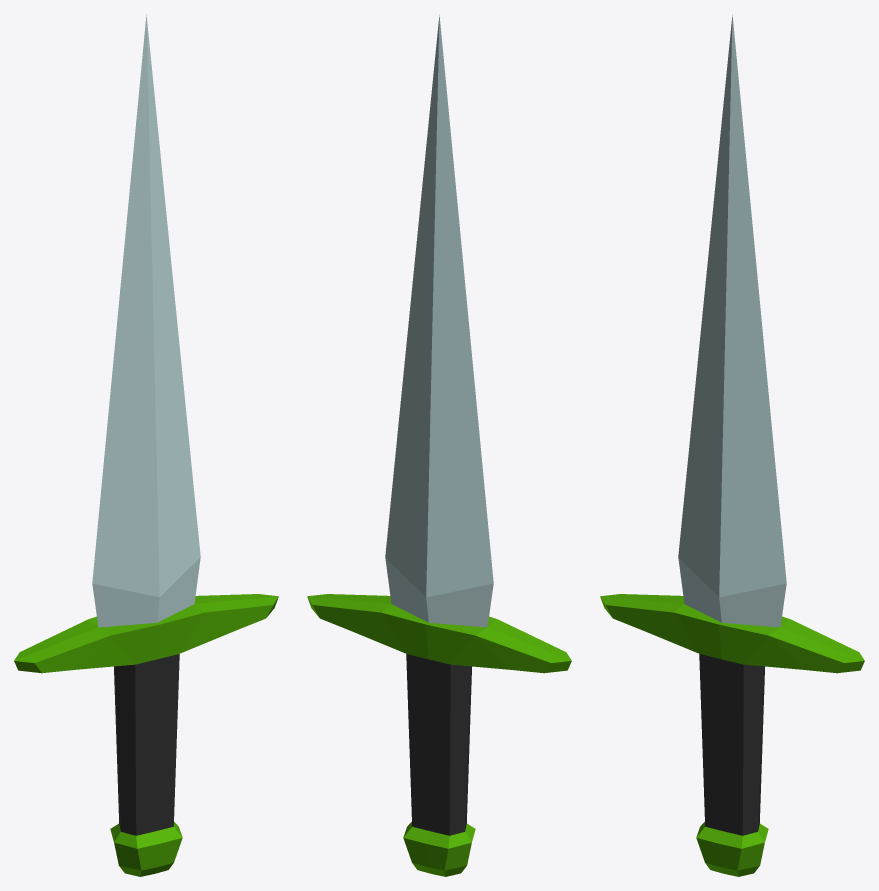
Rendered from dagger_green.glb.
The picture shows the model from 3 angles, left to right: view 1: azimuth 30°, elevation 25°; view 2: azimuth 150°, elevation 25°; view 3: azimuth 330°, elevation 25°; orthographic projection.
Parts seen in each view (by area): view 1: Dagger; view 2: Dagger; view 3: Dagger.
Part boxes in pixels (bbox=[...]): Dagger: bbox=[14, 14, 278, 876]; Dagger: bbox=[307, 14, 571, 876]; Dagger: bbox=[600, 14, 864, 876].
Bounding box in the file's own units: 0.6925 × 2.13 × 0.1235.
Materials: 2 (2 with a texture image).
